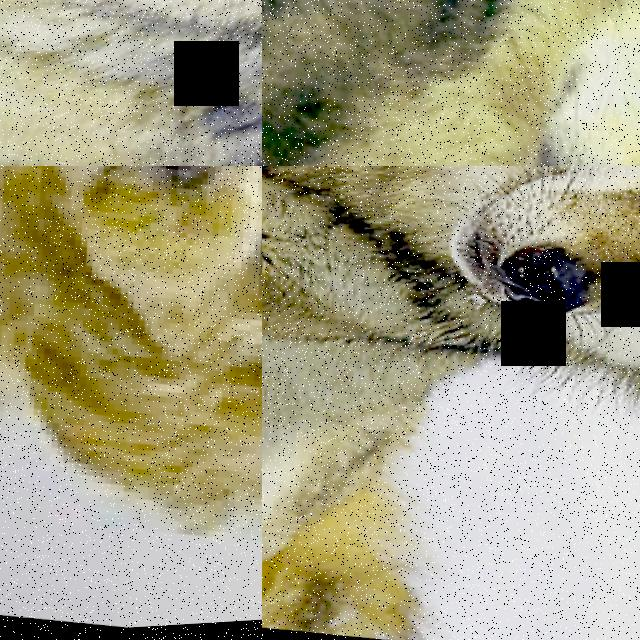dog: (0, 166, 262, 640)
wolf: (262, 166, 640, 640), (262, 0, 640, 166), (0, 0, 262, 166)
